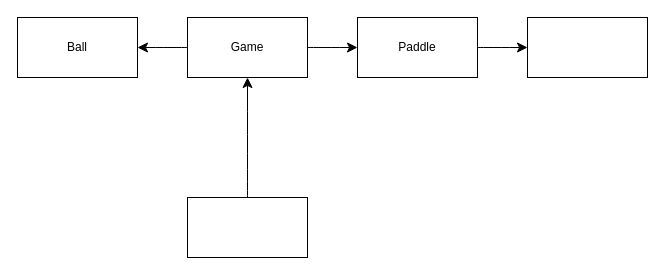
This 665x275 diagram has some shape labels left out. The centre of each missing label's shape, as x and y in pixels:
Main: the point at 247,227
PaddleController: the point at 587,47
